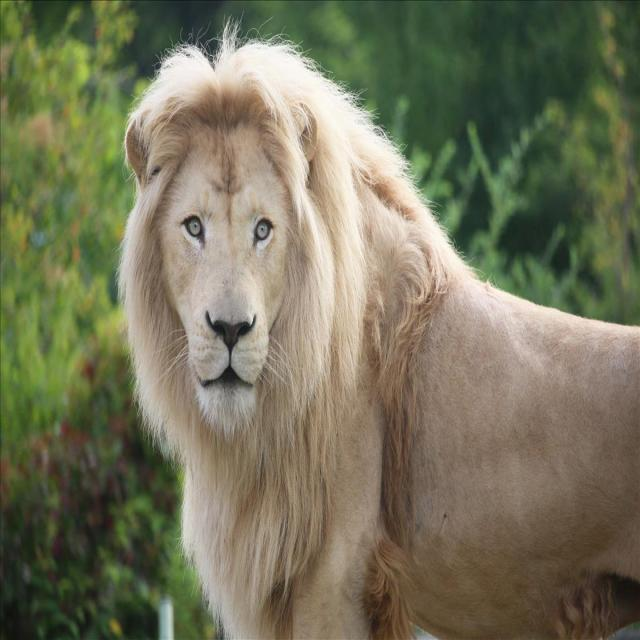lions: (47, 21, 640, 640)
